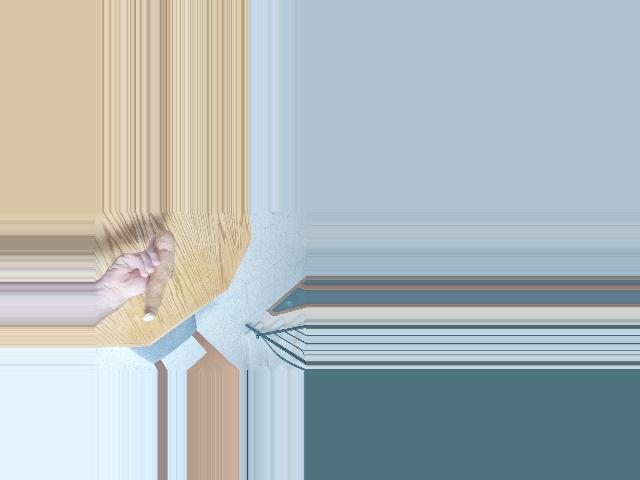sweet_potato: (139, 234, 179, 317)
